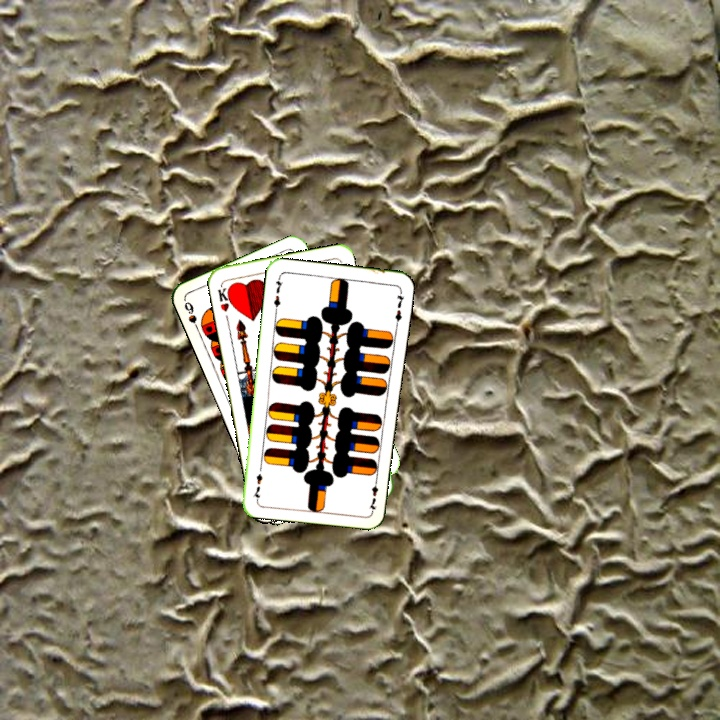E7: (270, 273, 285, 314), (366, 473, 380, 513)
HK: (214, 281, 235, 314)
S9: (180, 297, 203, 336)
